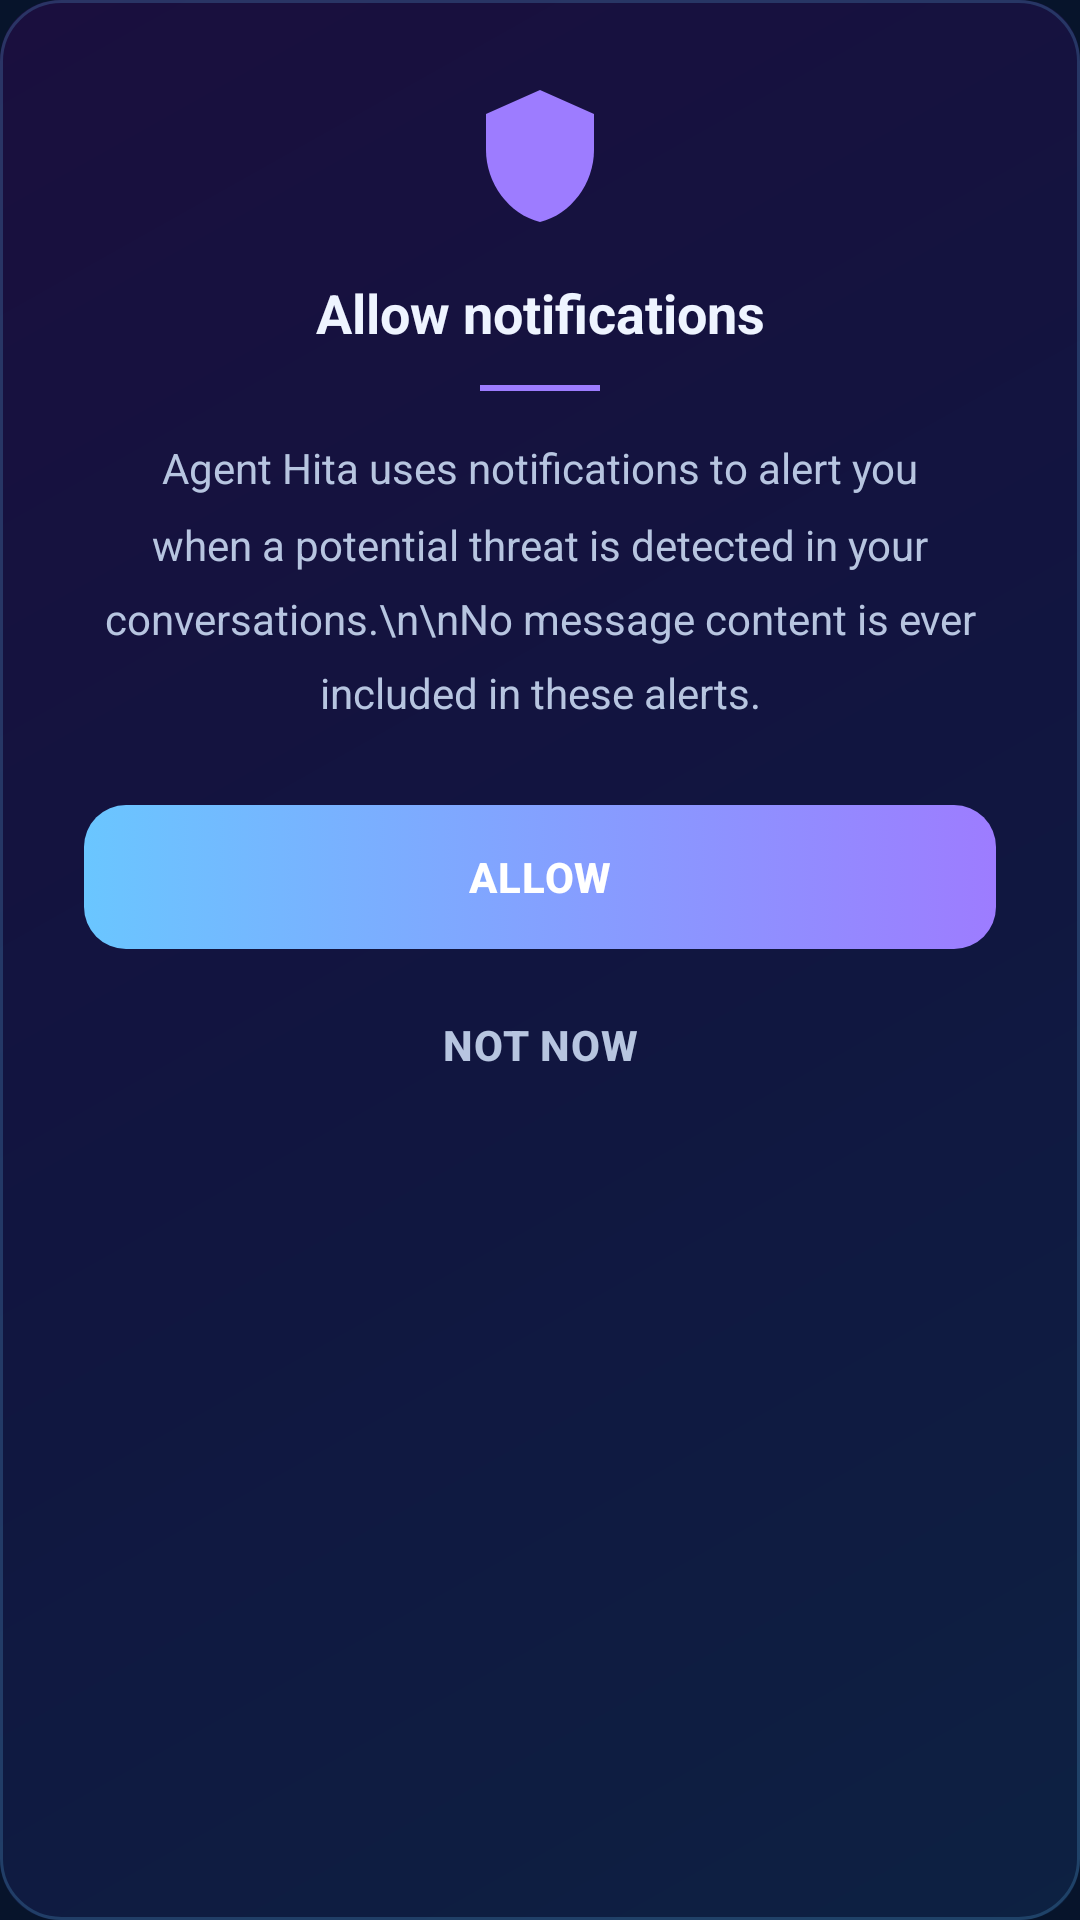

Icons on this 1080*1920 Android screen, each with the point to tap as (x=x, y=y):
hita shield: (x=540, y=156)
